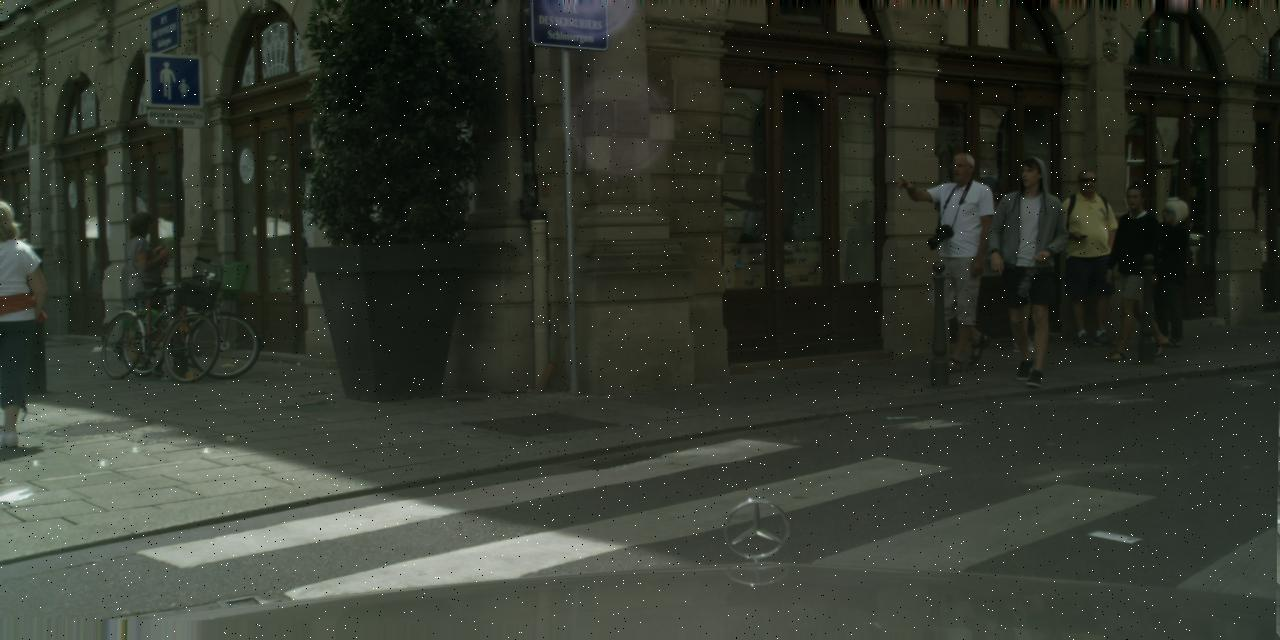ped: (982, 156, 1076, 385), (920, 152, 1009, 369), (0, 200, 54, 447), (1058, 170, 1130, 344), (1102, 184, 1172, 358), (114, 211, 178, 368), (1144, 200, 1204, 348)
